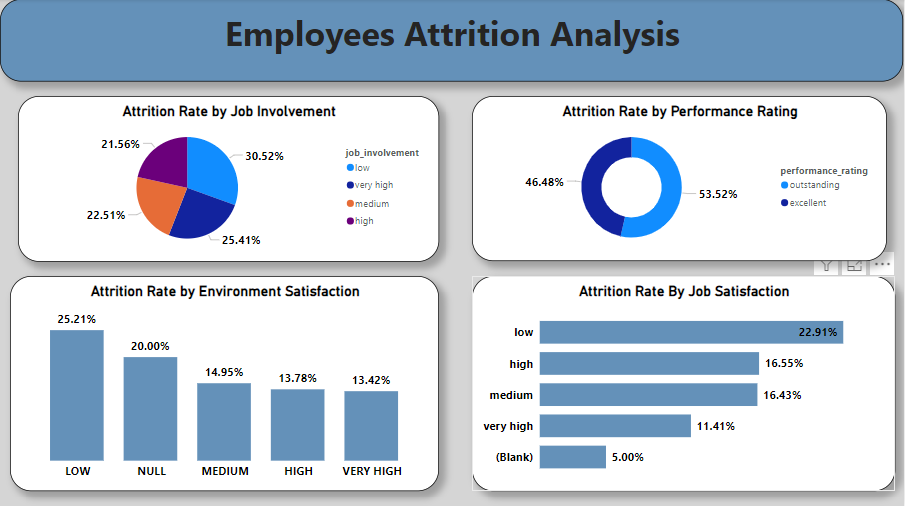

The page's visual inventory and layout, read from the dashboard file:
{"tool":"powerbi","page":{"name":"Survey","canvas":[1280,720],"ordinal":3},"visuals":[{"type":"textbox","box":[0,0,1280.2,116.6],"z":0},{"type":"columnChart","title":"Attrition Rate by Environment Satisfaction","fields":{"Category":["Survey_Dim.env_satisfaction"],"Y":["Model_Measures.Attrition Rate"]},"box":[14.2,392.6,608,304.7],"z":1000},{"type":"barChart","title":"Attrition Rate By Job Satisfaction","fields":{"Y":["Model_Measures.Attrition Rate"],"Category":["Survey_Dim.job_satisfaction"]},"box":[669,392.6,599.5,304.7],"z":2000},{"type":"pieChart","title":"Attrition Rate by Job Involvement","fields":{"Category":["Survey_Dim.job_involvement"],"Y":["Model_Measures.Attrition Rate"]},"box":[25.5,137.5,596.7,235.3],"z":3000},{"type":"donutChart","title":"Attrition Rate by Performance Rating","fields":{"Y":["Model_Measures.Attrition Rate"],"Category":["Survey_Dim.performance_rating"]},"box":[669,137.5,588.2,233.9],"z":4000}]}

Visuals, with their boxes in screenshot pixels (x1, y1, x2, y2), scaled from the page's 1280x720 canvas onto the 905x506 screenshot:
textbox: 0, 0, 904, 82
"Attrition Rate by Environment Satisfaction" columnChart: 10, 276, 440, 490
"Attrition Rate By Job Satisfaction" barChart: 473, 276, 897, 490
"Attrition Rate by Job Involvement" pieChart: 18, 97, 440, 262
"Attrition Rate by Performance Rating" donutChart: 473, 97, 889, 261
